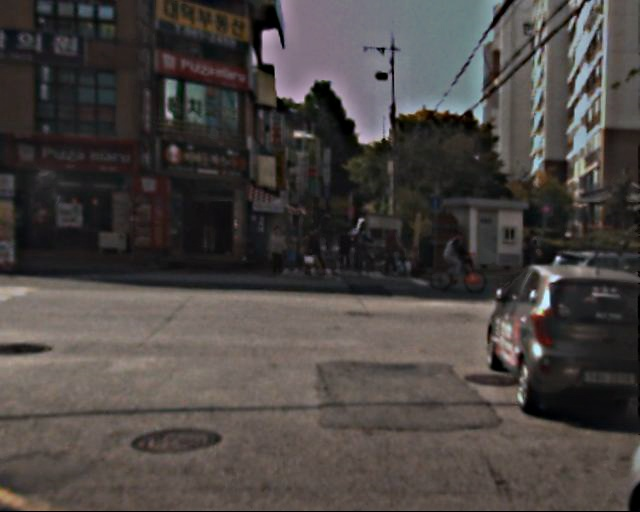person: (383, 225, 406, 280), (303, 225, 325, 279), (446, 232, 467, 284), (268, 228, 289, 280), (352, 227, 372, 276), (525, 228, 545, 276), (339, 228, 357, 273), (399, 244, 415, 282), (325, 221, 339, 254)
